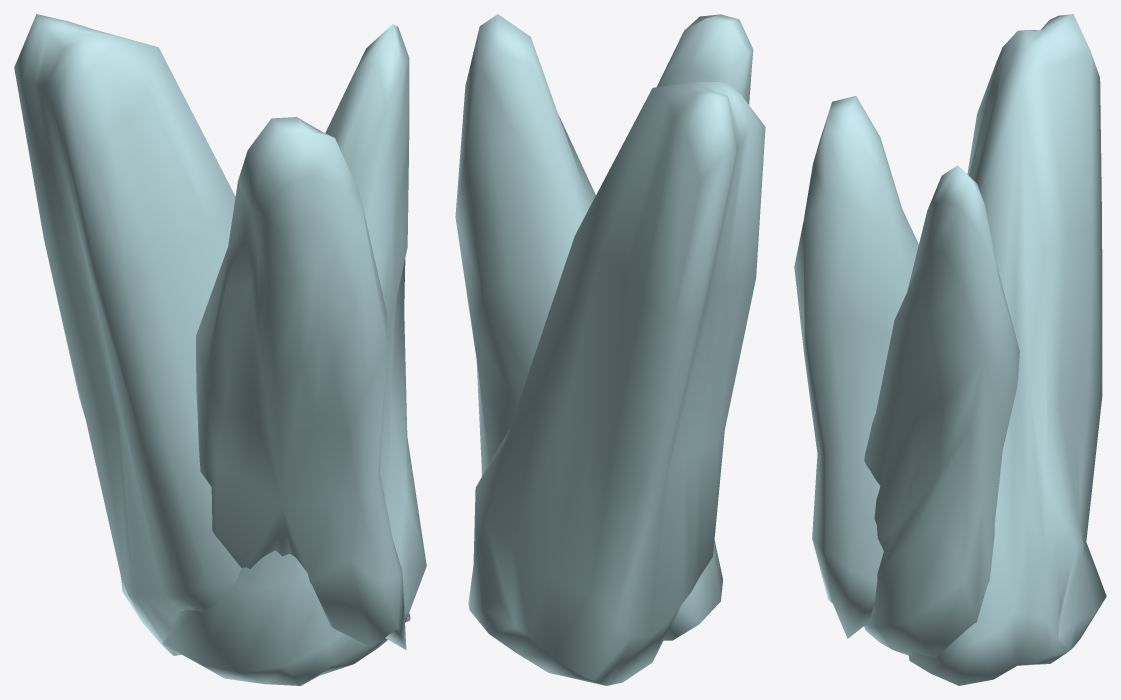
File: blender env assets large ice spike 2.fbx
3 views of the same model, side by side, from view 1: azimuth 30°, elevation 25°; view 2: azimuth 150°, elevation 25°; view 3: azimuth 270°, elevation 25° (orthographic). The views are drawn at different scales.
Visible parts, largest first — view 1: rock.034; view 2: rock.034; view 3: rock.034.
Boxes of the visible parts, <box> form: rock.034: <box>14,14,426,685</box>; rock.034: <box>455,14,765,685</box>; rock.034: <box>794,14,1106,685</box>.
Size of the model in its own units: 144 by 265 by 133.
